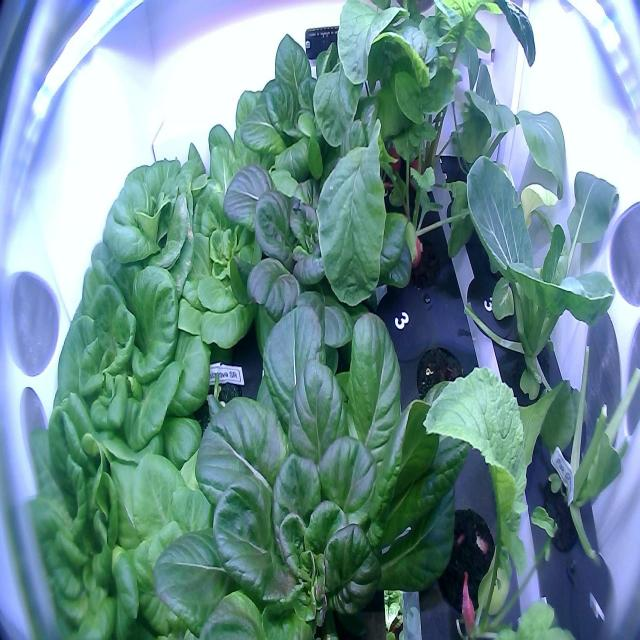Ready: (22, 396, 156, 640), (47, 242, 184, 452), (87, 134, 211, 312)
pod: (411, 339, 473, 431)
young: (148, 287, 484, 640), (215, 127, 434, 364), (114, 411, 318, 640), (228, 20, 375, 204), (166, 176, 288, 359), (175, 82, 290, 240), (171, 351, 252, 450)
